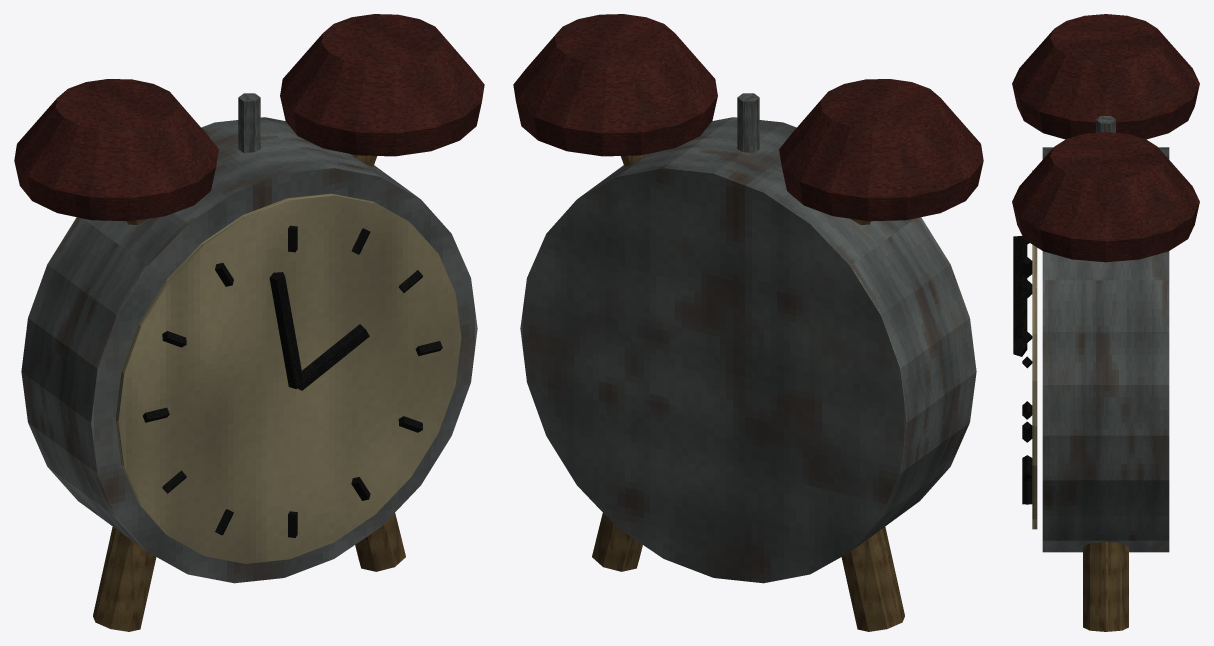
The model's file is level_event_alarm_clock_worn.glb.
3 renders of one model, left to right at view 1: azimuth 30°, elevation 25°; view 2: azimuth 150°, elevation 25°; view 3: azimuth 270°, elevation 25°, orthographic. The views are drawn at different scales.
Visible parts, largest first — view 1: level_event_alarm_clock_worn; view 2: level_event_alarm_clock_worn; view 3: level_event_alarm_clock_worn.
Boxes of the visible parts, x1,y1,x2,y2 form: level_event_alarm_clock_worn: (14, 14, 484, 631); level_event_alarm_clock_worn: (513, 14, 983, 631); level_event_alarm_clock_worn: (1012, 14, 1199, 631).
Size of the model in its own units: 0.184 by 0.2071 by 0.074.
5 materials, 5 textured.
